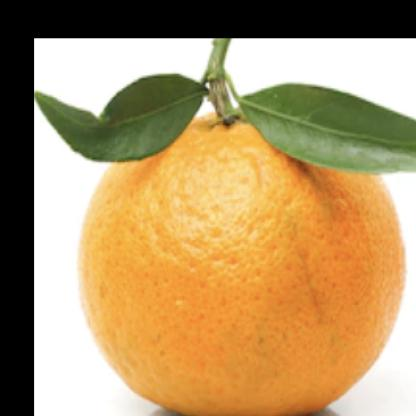fresh: (83, 82, 405, 416)
